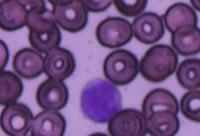L: (80, 78, 122, 123)
